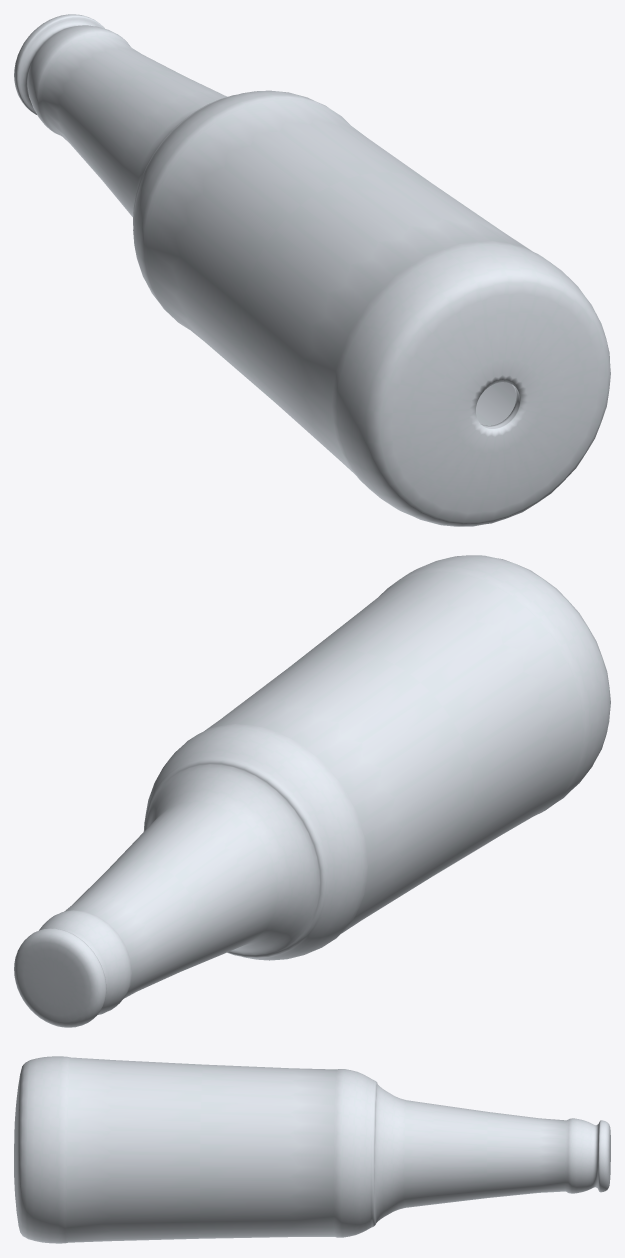
Rendered from newscene.obj.
3 views of the same model, one above another, from view 1: azimuth 30°, elevation 25°; view 2: azimuth 150°, elevation 25°; view 3: azimuth 270°, elevation 25° (orthographic). The views are drawn at different scales.
Visible parts, largest first — view 1: polyline2; view 2: polyline2; view 3: polyline2.
Boxes of the visible parts, bbox=[...] form: polyline2: bbox=[14, 14, 610, 526]; polyline2: bbox=[14, 555, 610, 1027]; polyline2: bbox=[14, 1056, 610, 1243].
Size of the model in its own units: 158 by 157 by 502.
1 material, 1 textured.
